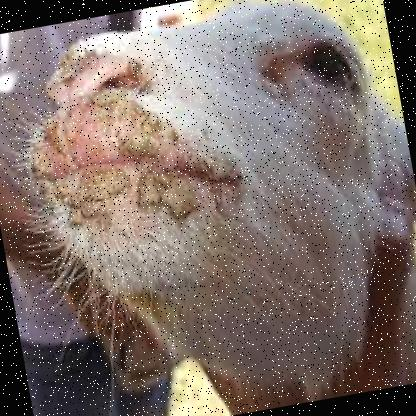ppr: (26, 70, 231, 241)
